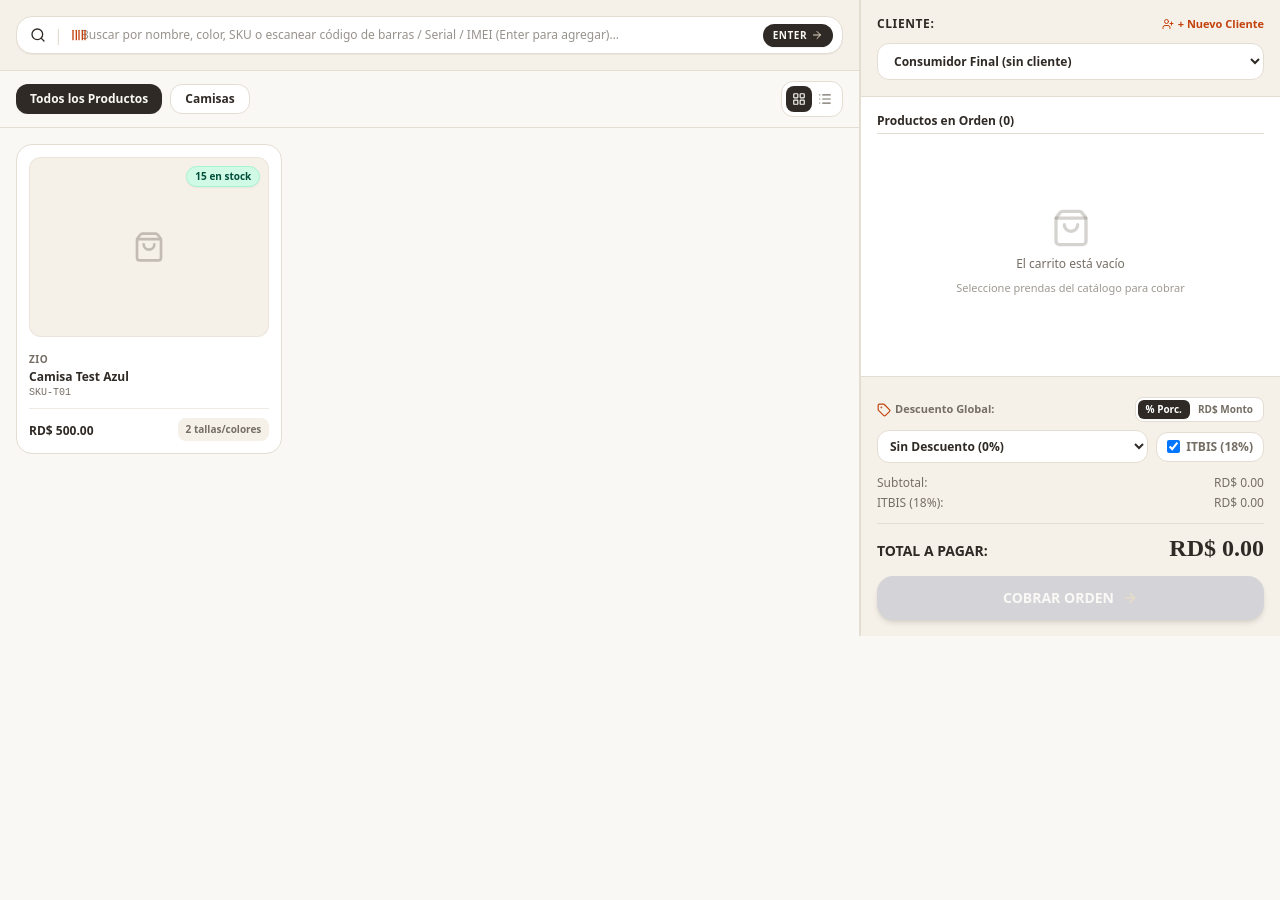
it: POSView -- misma lógica de datos/carrito en ambos modos › agregar desde Lista usa EXACTAMENTE la misma función existente (abre el mismo VariantSelectorModal)
Click the button named "Ver catálogo en lista". click: (825, 99)
box: [812,86,838,112]
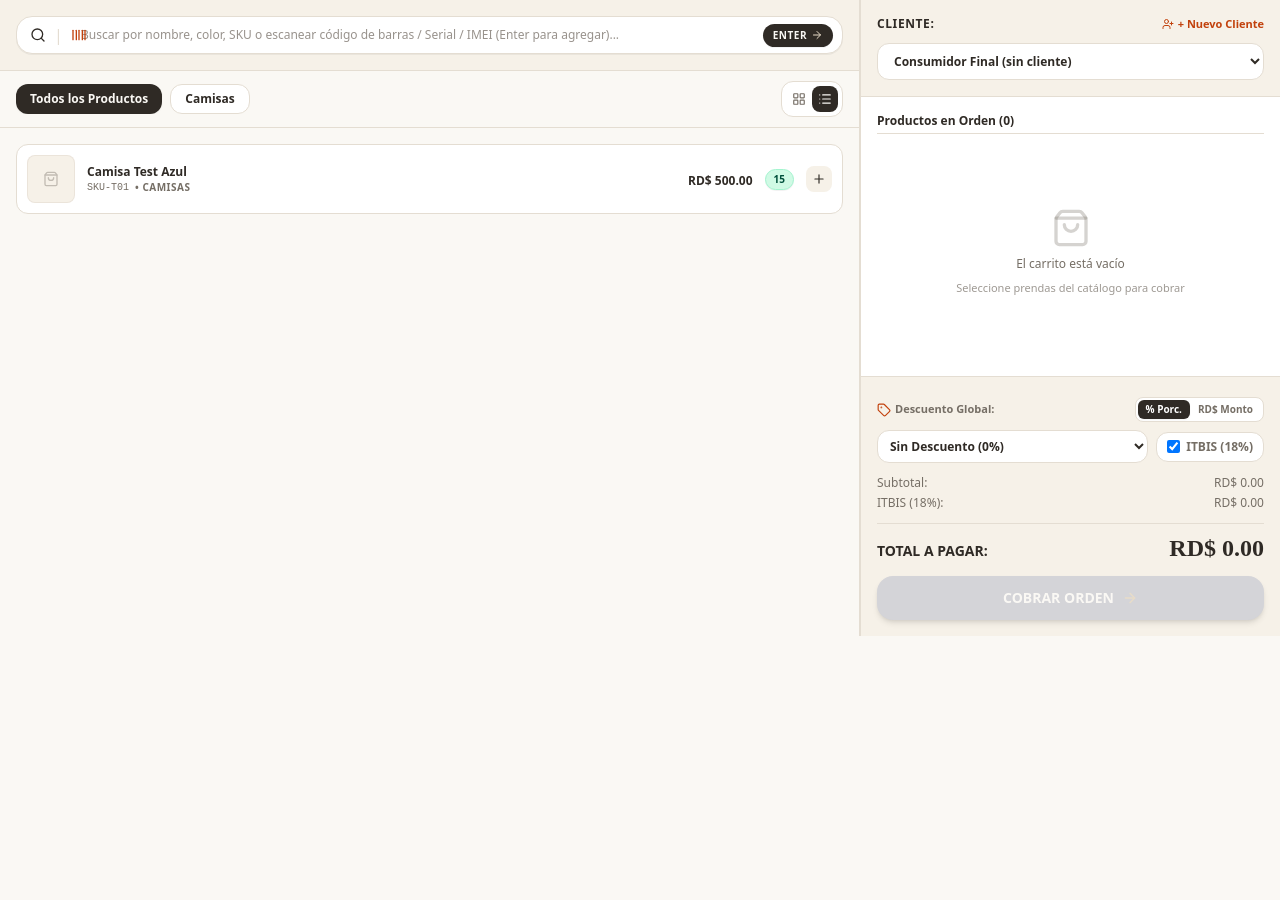
Click the button named "Agregar Camisa Test Azul al carrito". click: (819, 179)
box: [806,166,832,192]
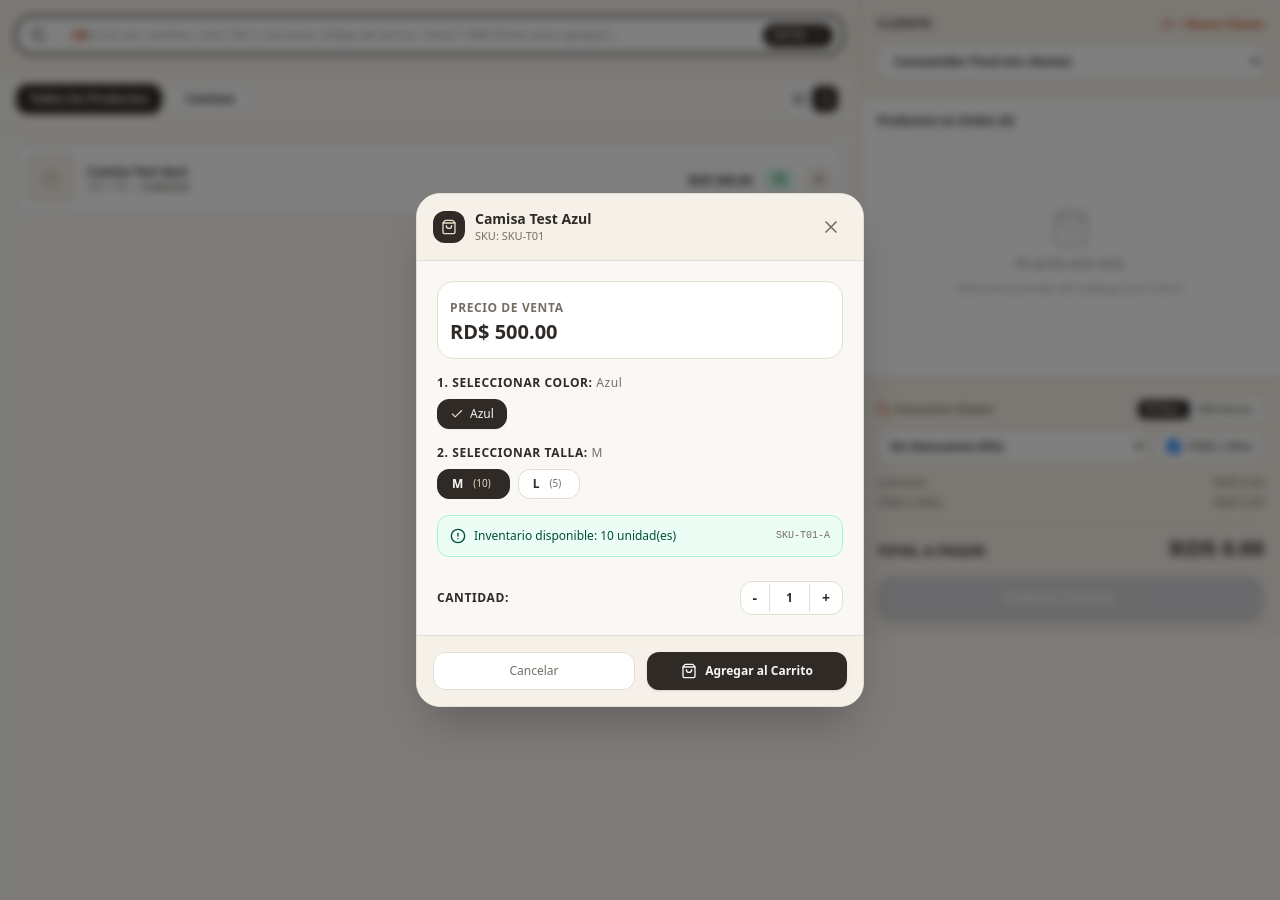
Expected: the text "Agregar al Carrito" is shown, [705,663,813,679]
